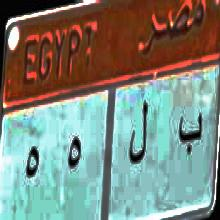5: (20, 143, 42, 188), (66, 131, 84, 177)
baa: (177, 104, 203, 165)
laam: (129, 96, 150, 174)
